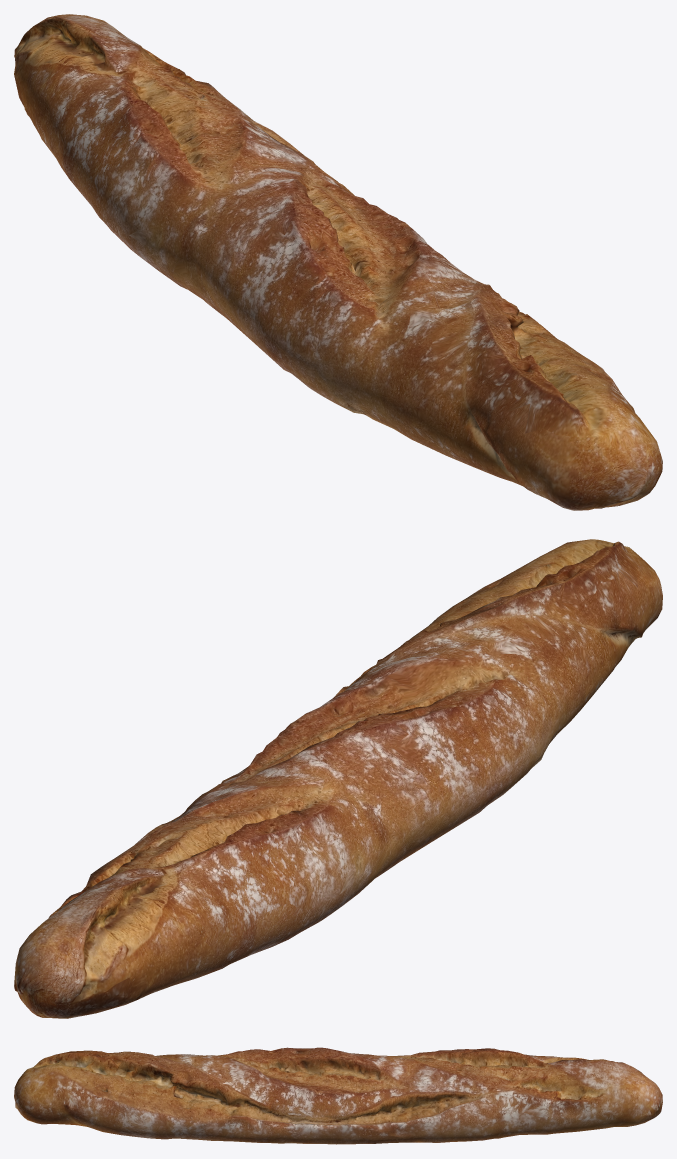
The model's file is Baguette.fbx.
3 views of the same model, one above another, from view 1: azimuth 30°, elevation 25°; view 2: azimuth 150°, elevation 25°; view 3: azimuth 270°, elevation 25° (orthographic). The views are drawn at different scales.
Parts seen in each view (by area): view 1: 3DModel; view 2: 3DModel; view 3: 3DModel.
Part boxes in pixels (x1=…): 3DModel: x1=14, y1=14, x2=662, y2=510; 3DModel: x1=14, y1=539, x2=662, y2=1018; 3DModel: x1=14, y1=1047, x2=662, y2=1144.
Size of the model in its own units: 6.58 by 3.87 by 33.14.
